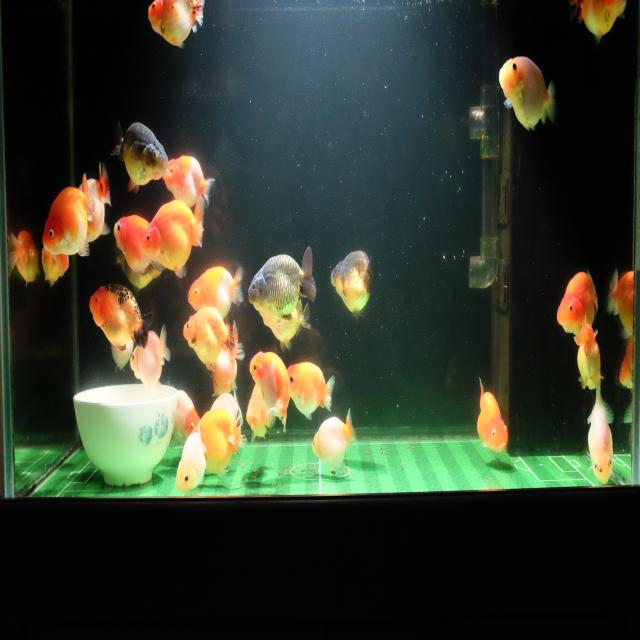Goldfish: (140, 196, 208, 285), (246, 245, 318, 324), (106, 113, 168, 198), (86, 278, 154, 354), (498, 51, 558, 136), (41, 170, 95, 262), (179, 303, 238, 373), (247, 346, 291, 434), (309, 406, 359, 481), (584, 377, 617, 489), (146, 0, 209, 57), (158, 151, 217, 211), (328, 248, 378, 318), (555, 265, 599, 344), (284, 359, 336, 424), (196, 405, 242, 477), (76, 160, 114, 246), (187, 262, 244, 317), (475, 370, 510, 458), (130, 324, 172, 392), (569, 0, 628, 48), (173, 419, 210, 495), (574, 312, 605, 397), (208, 336, 244, 404), (3, 222, 40, 288), (606, 264, 637, 339), (40, 223, 70, 290), (168, 382, 200, 440), (245, 383, 271, 454), (618, 331, 634, 401)
